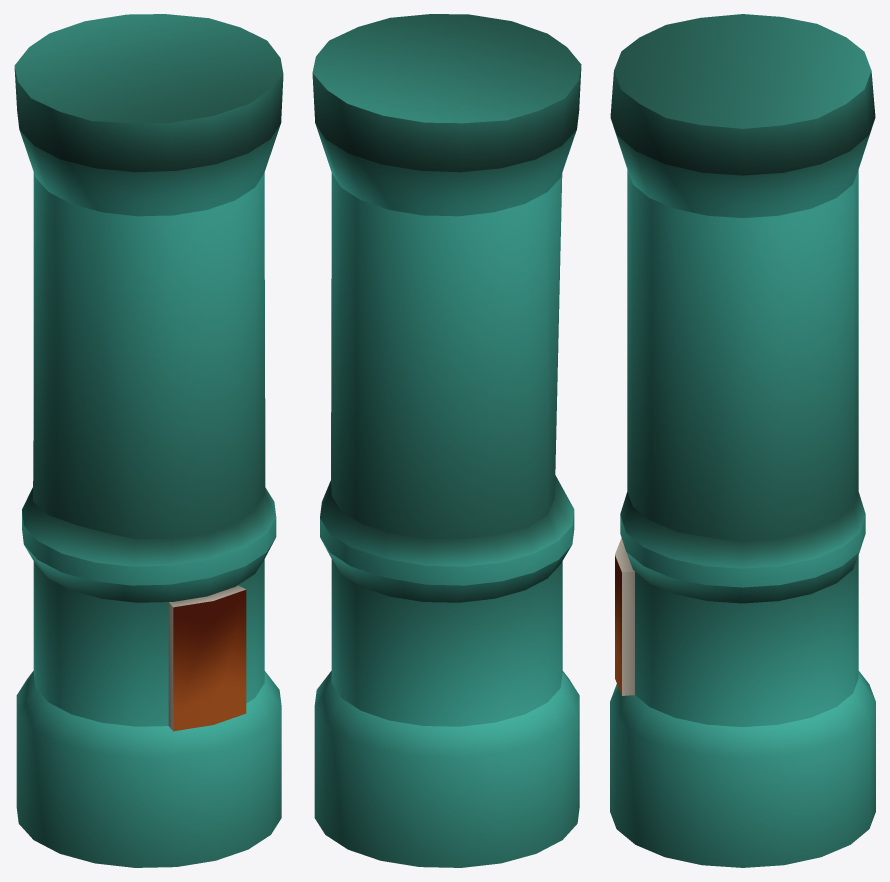
The model's file is hienokakluunipt2.fbx.
3 renders of one model, left to right at view 1: azimuth 30°, elevation 25°; view 2: azimuth 150°, elevation 25°; view 3: azimuth 270°, elevation 25°, orthographic.
Visible parts, largest first — view 1: pCylinder1; view 2: pCylinder1; view 3: pCylinder1.
Boxes of the visible parts, x1,y1,x2,y2 form: pCylinder1: (14,14,283,867); pCylinder1: (312,14,581,867); pCylinder1: (610,14,875,867).
Size of the model in its own units: 4.04 by 12.23 by 3.95.
